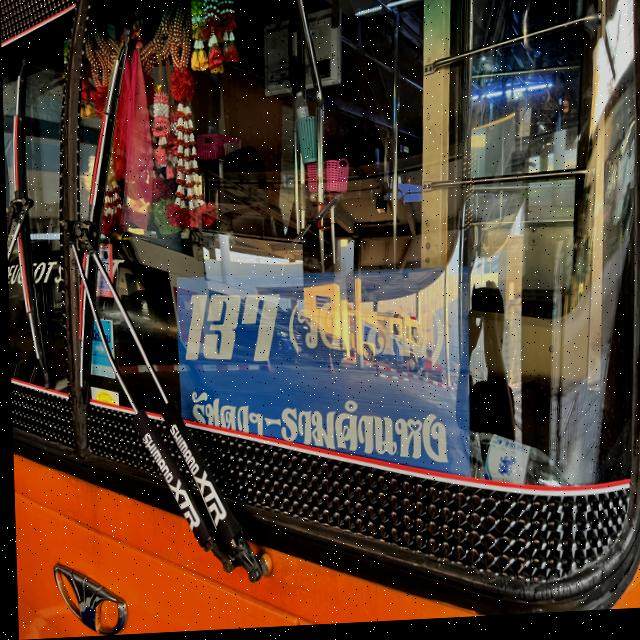BMTA-bus: (0, 0, 640, 640)
Destination-Sign-Normal: (173, 269, 469, 498)
